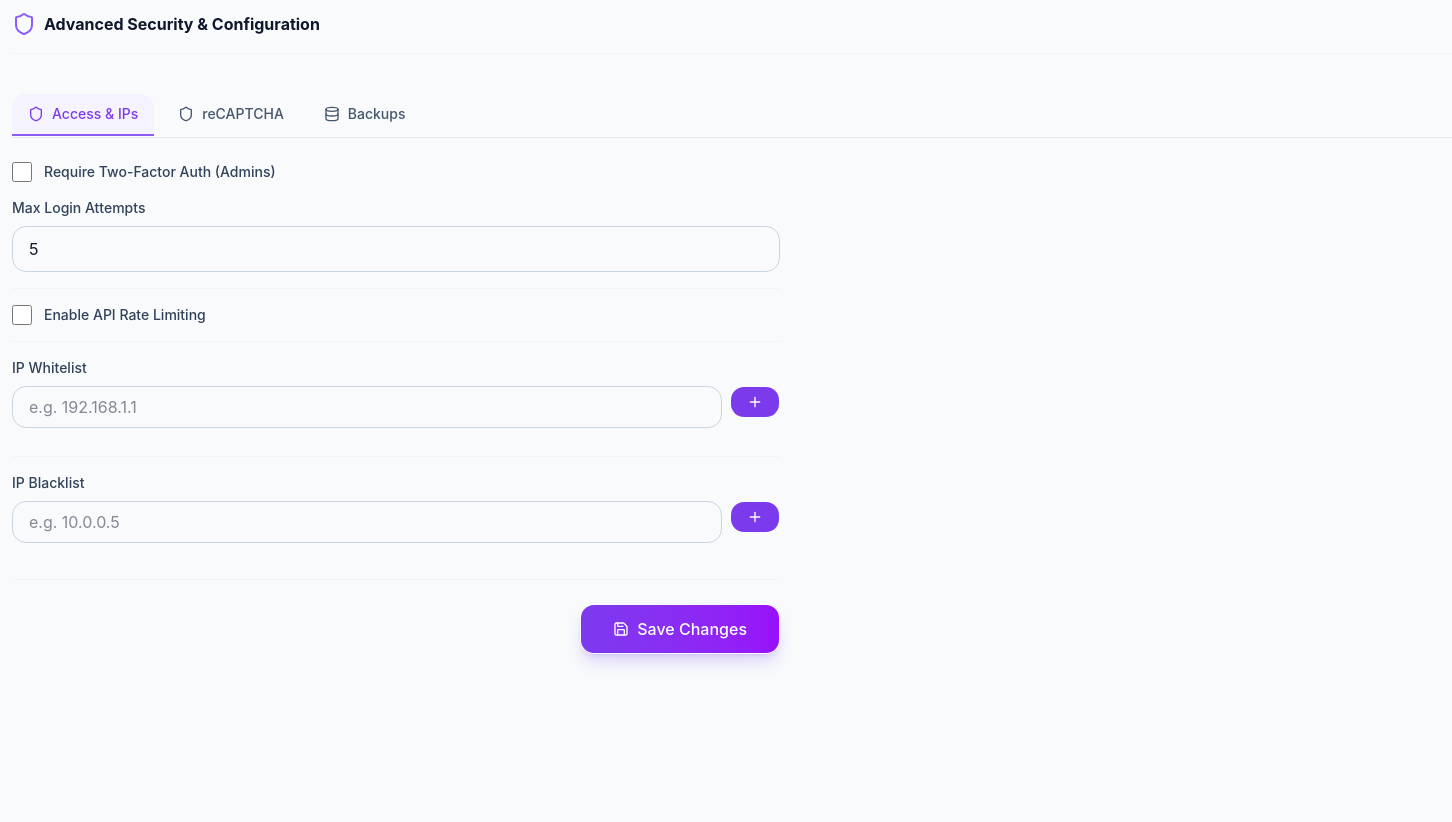
SecurityForm Component › switches to the reCAPTCHA tab when clicked
This screenshot has width=1452, height=822.
Click the button "reCAPTCHA" at (231, 115), box [162,94,300,136]
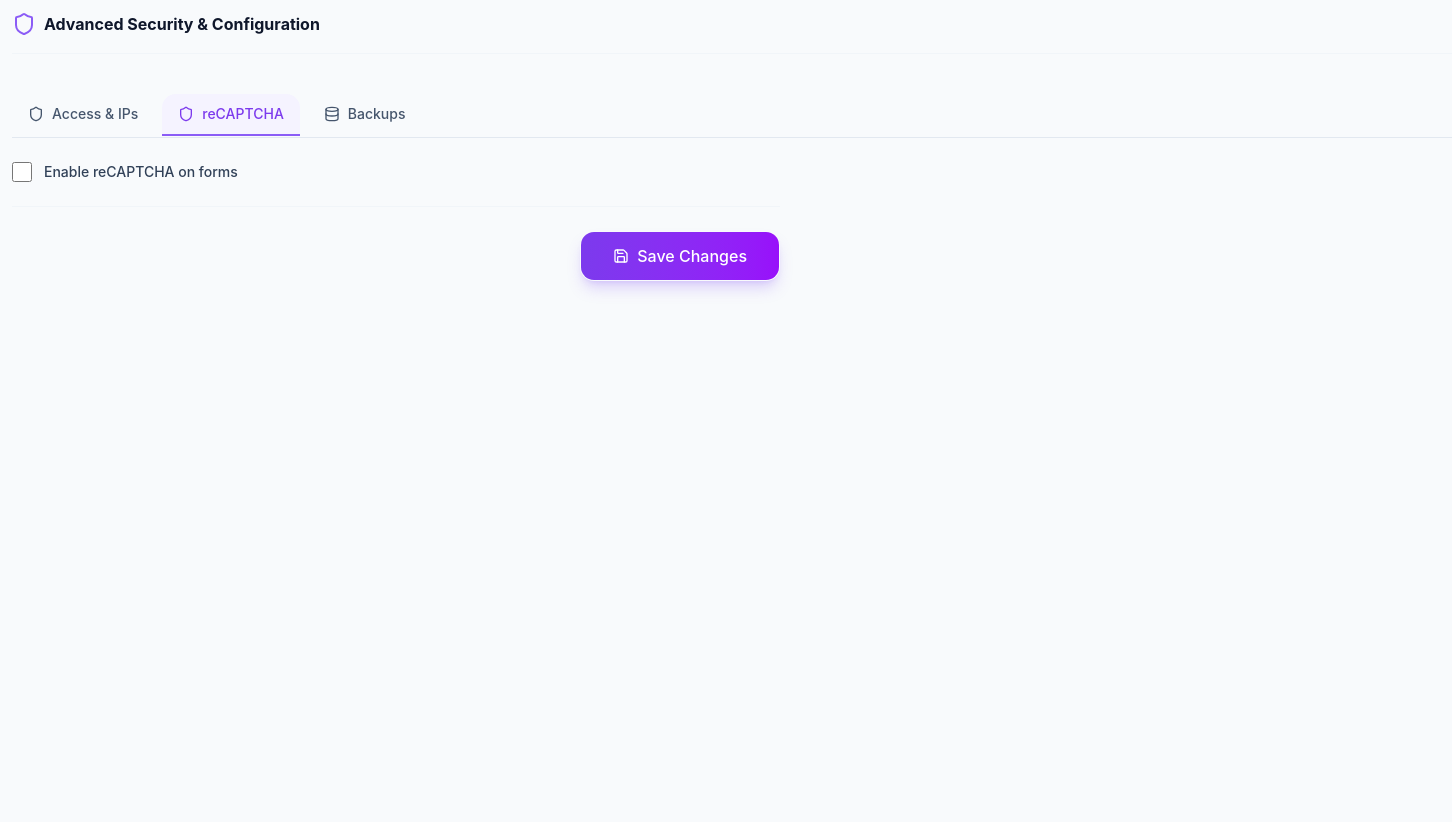
Check: the text "Enable reCAPTCHA on forms" is shown, box [44,162,238,182]
